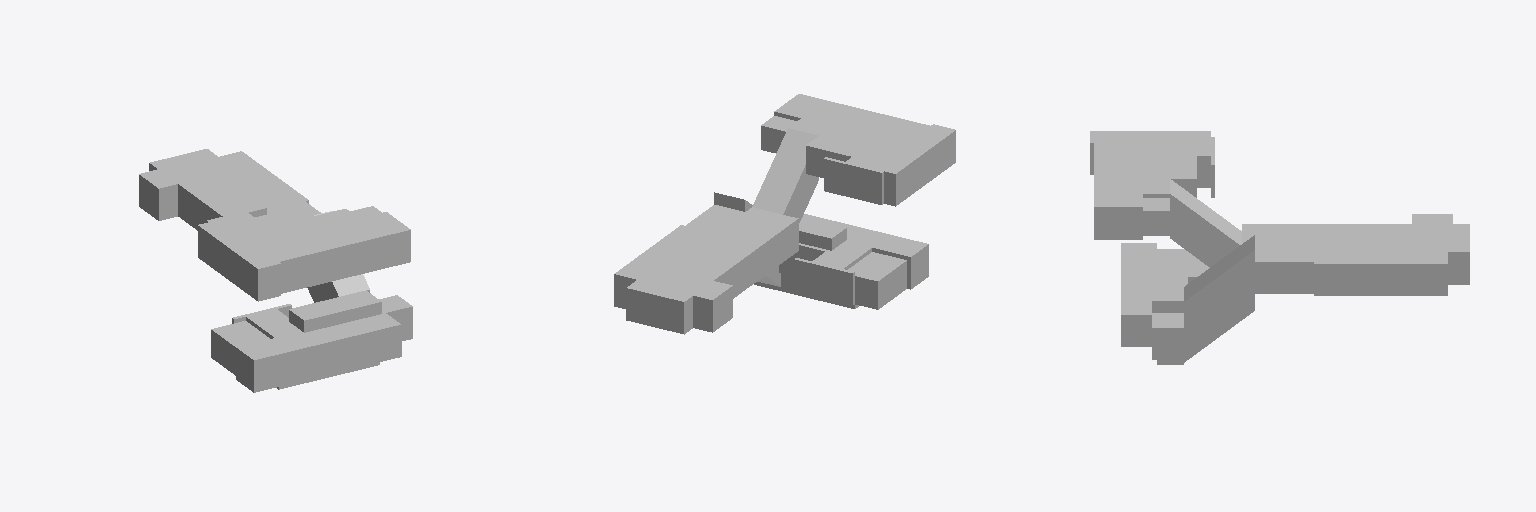
File: fuller_strairs.obj
3 views of the same model, side by side, from view 1: azimuth 30°, elevation 25°; view 2: azimuth 150°, elevation 25°; view 3: azimuth 270°, elevation 25° (orthographic).
Visible parts, largest first — view 1: plane, cuboid; view 2: plane, cuboid; view 3: plane, cuboid.
Part boxes in pixels (left/top/right/bottom): plane: left=139, top=149, right=412, bottom=392; cuboid: left=307, top=211, right=369, bottom=302; plane: left=614, top=94, right=955, bottom=334; cuboid: left=714, top=128, right=818, bottom=286; plane: left=1090, top=131, right=1469, bottom=364; cuboid: left=1170, top=179, right=1254, bottom=362.
Size of the model in its own units: 3 by 2.44 by 5.31.